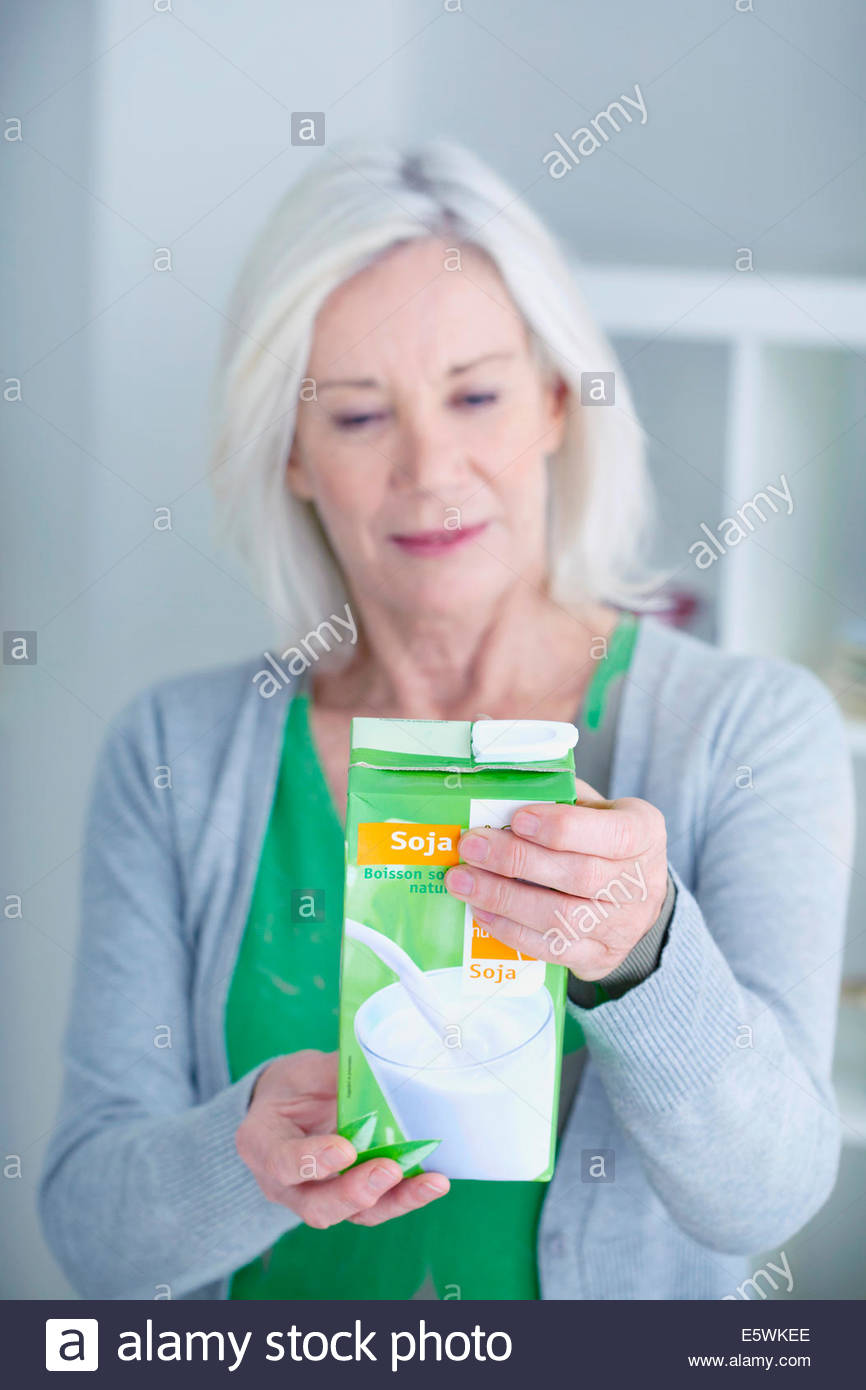carton: (307, 652, 605, 1257)
